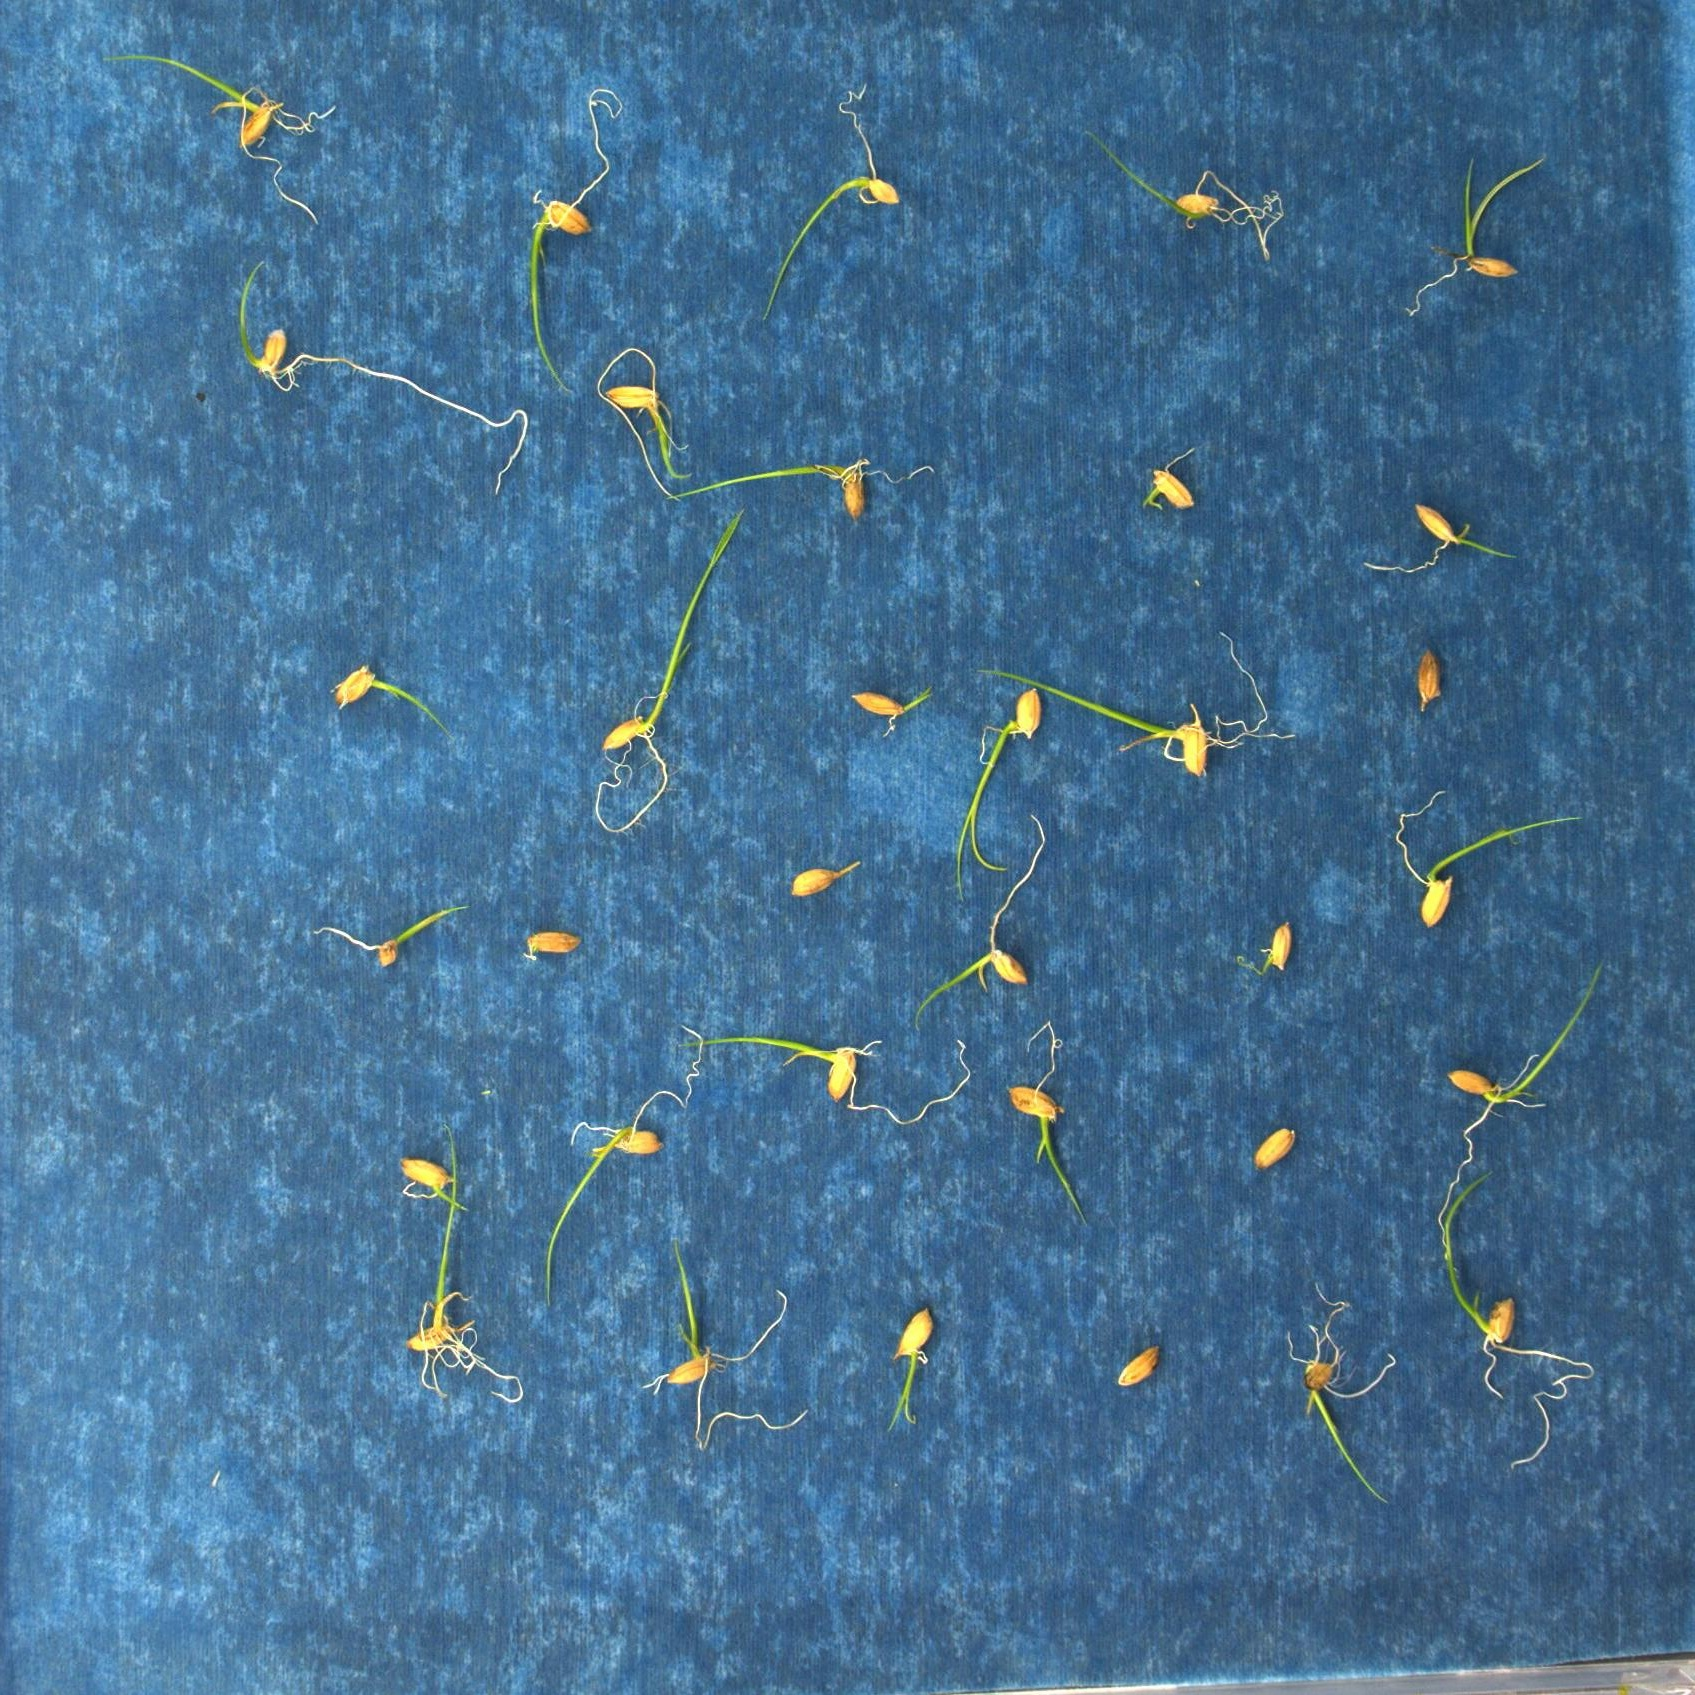not sprout: (789, 855, 860, 902), (517, 920, 582, 962), (1411, 640, 1444, 719), (1114, 1344, 1163, 1391), (1250, 1127, 1301, 1170), (1256, 924, 1301, 972)
sprout: (236, 258, 532, 490), (1437, 1177, 1603, 1464), (594, 511, 744, 827), (986, 627, 1298, 775), (543, 1021, 698, 1313), (99, 40, 338, 225), (1450, 969, 1599, 1253), (757, 81, 906, 328), (400, 1121, 525, 1406), (1074, 121, 1291, 275), (646, 1243, 804, 1444), (529, 84, 626, 393), (694, 1028, 981, 1121), (917, 813, 1045, 1015), (1399, 787, 1586, 924), (1406, 155, 1551, 331), (1288, 1281, 1395, 1503), (951, 689, 1048, 879), (674, 455, 941, 517), (588, 340, 686, 504), (1007, 1024, 1087, 1209), (1354, 501, 1520, 577), (307, 902, 469, 964), (331, 661, 449, 730), (885, 1309, 934, 1423), (838, 681, 934, 734), (393, 1150, 469, 1212), (1138, 452, 1205, 508)
